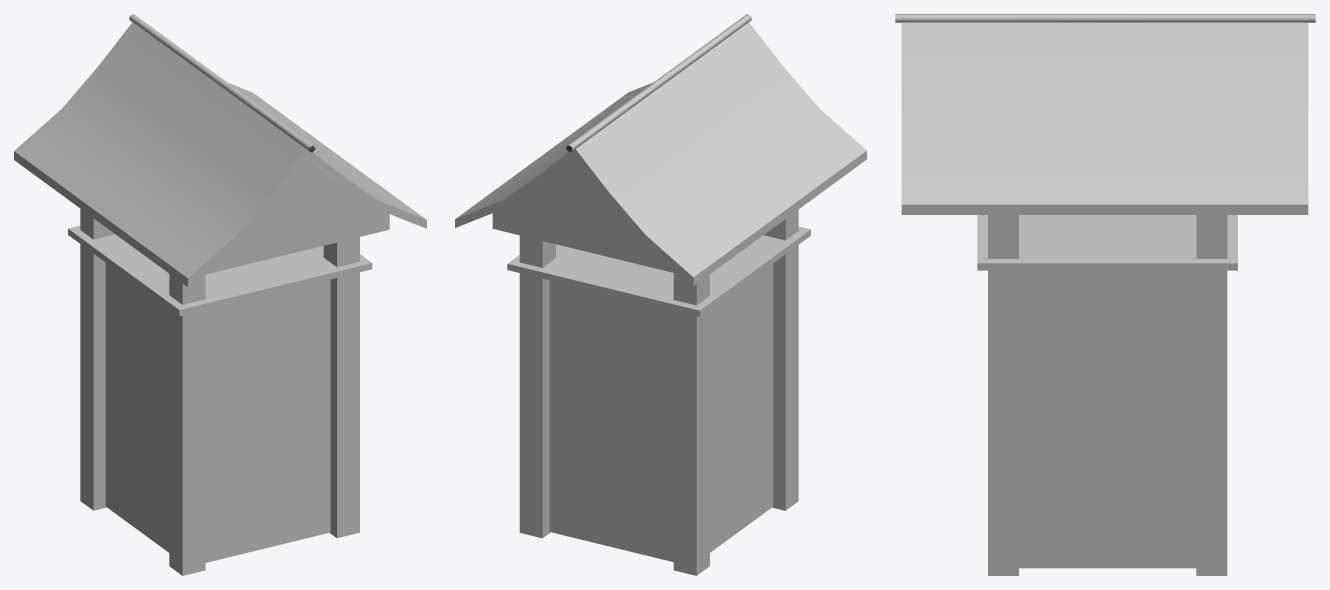
Rendered from corner lod1.fbx.
The picture shows the model from 3 angles, left to right: view 1: azimuth 30°, elevation 25°; view 2: azimuth 150°, elevation 25°; view 3: azimuth 270°, elevation 25°; orthographic projection. The views are drawn at different scales.
Parts seen in each view (by area): view 1: polySurface3462; view 2: polySurface3462; view 3: polySurface3462.
Boxes of the visible parts, x1,y1,x2,y2 form: polySurface3462: (14,14,426,575); polySurface3462: (455,14,866,575); polySurface3462: (895,14,1315,575).
Bounding box in the file's own units: 6.2 × 10.83 × 8.07.
